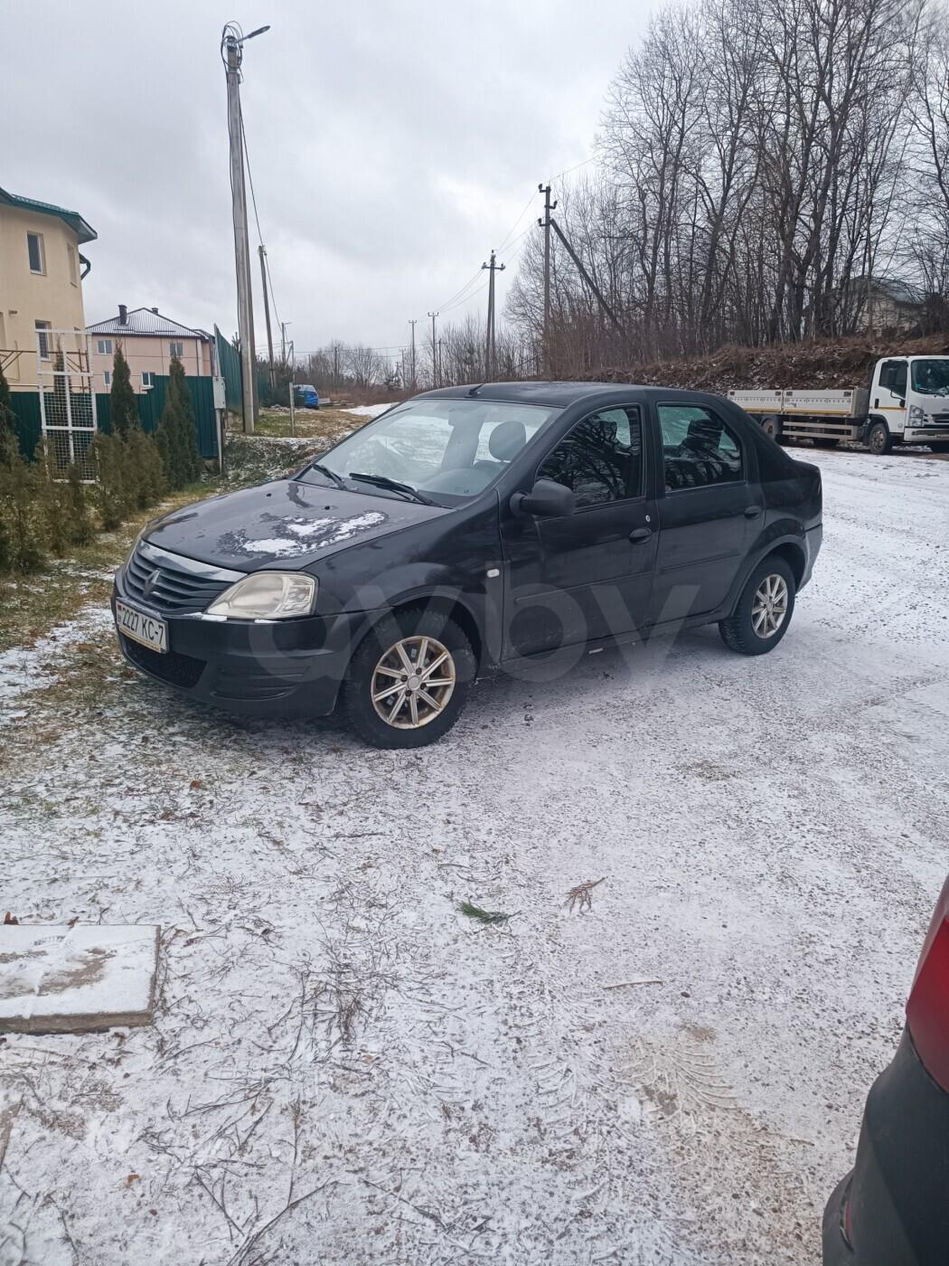Logan_2008-2015: (116, 378, 832, 751)
